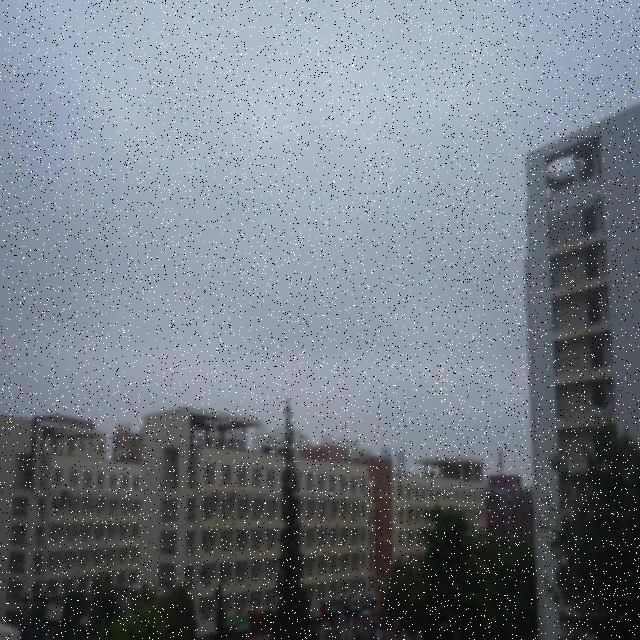UAV: (589, 406, 610, 430)
